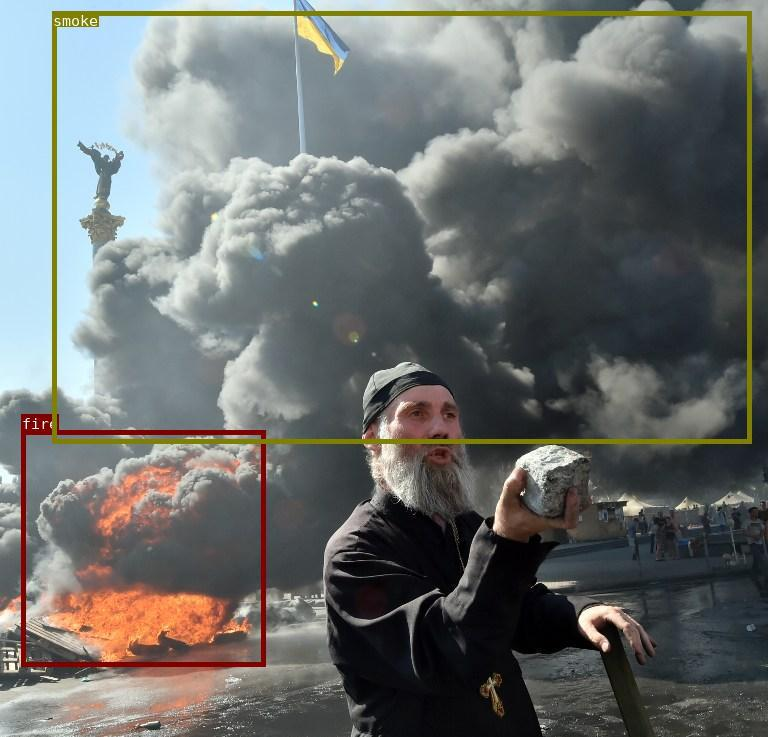fire: (20, 429, 264, 666)
smoke: (51, 11, 751, 442)
